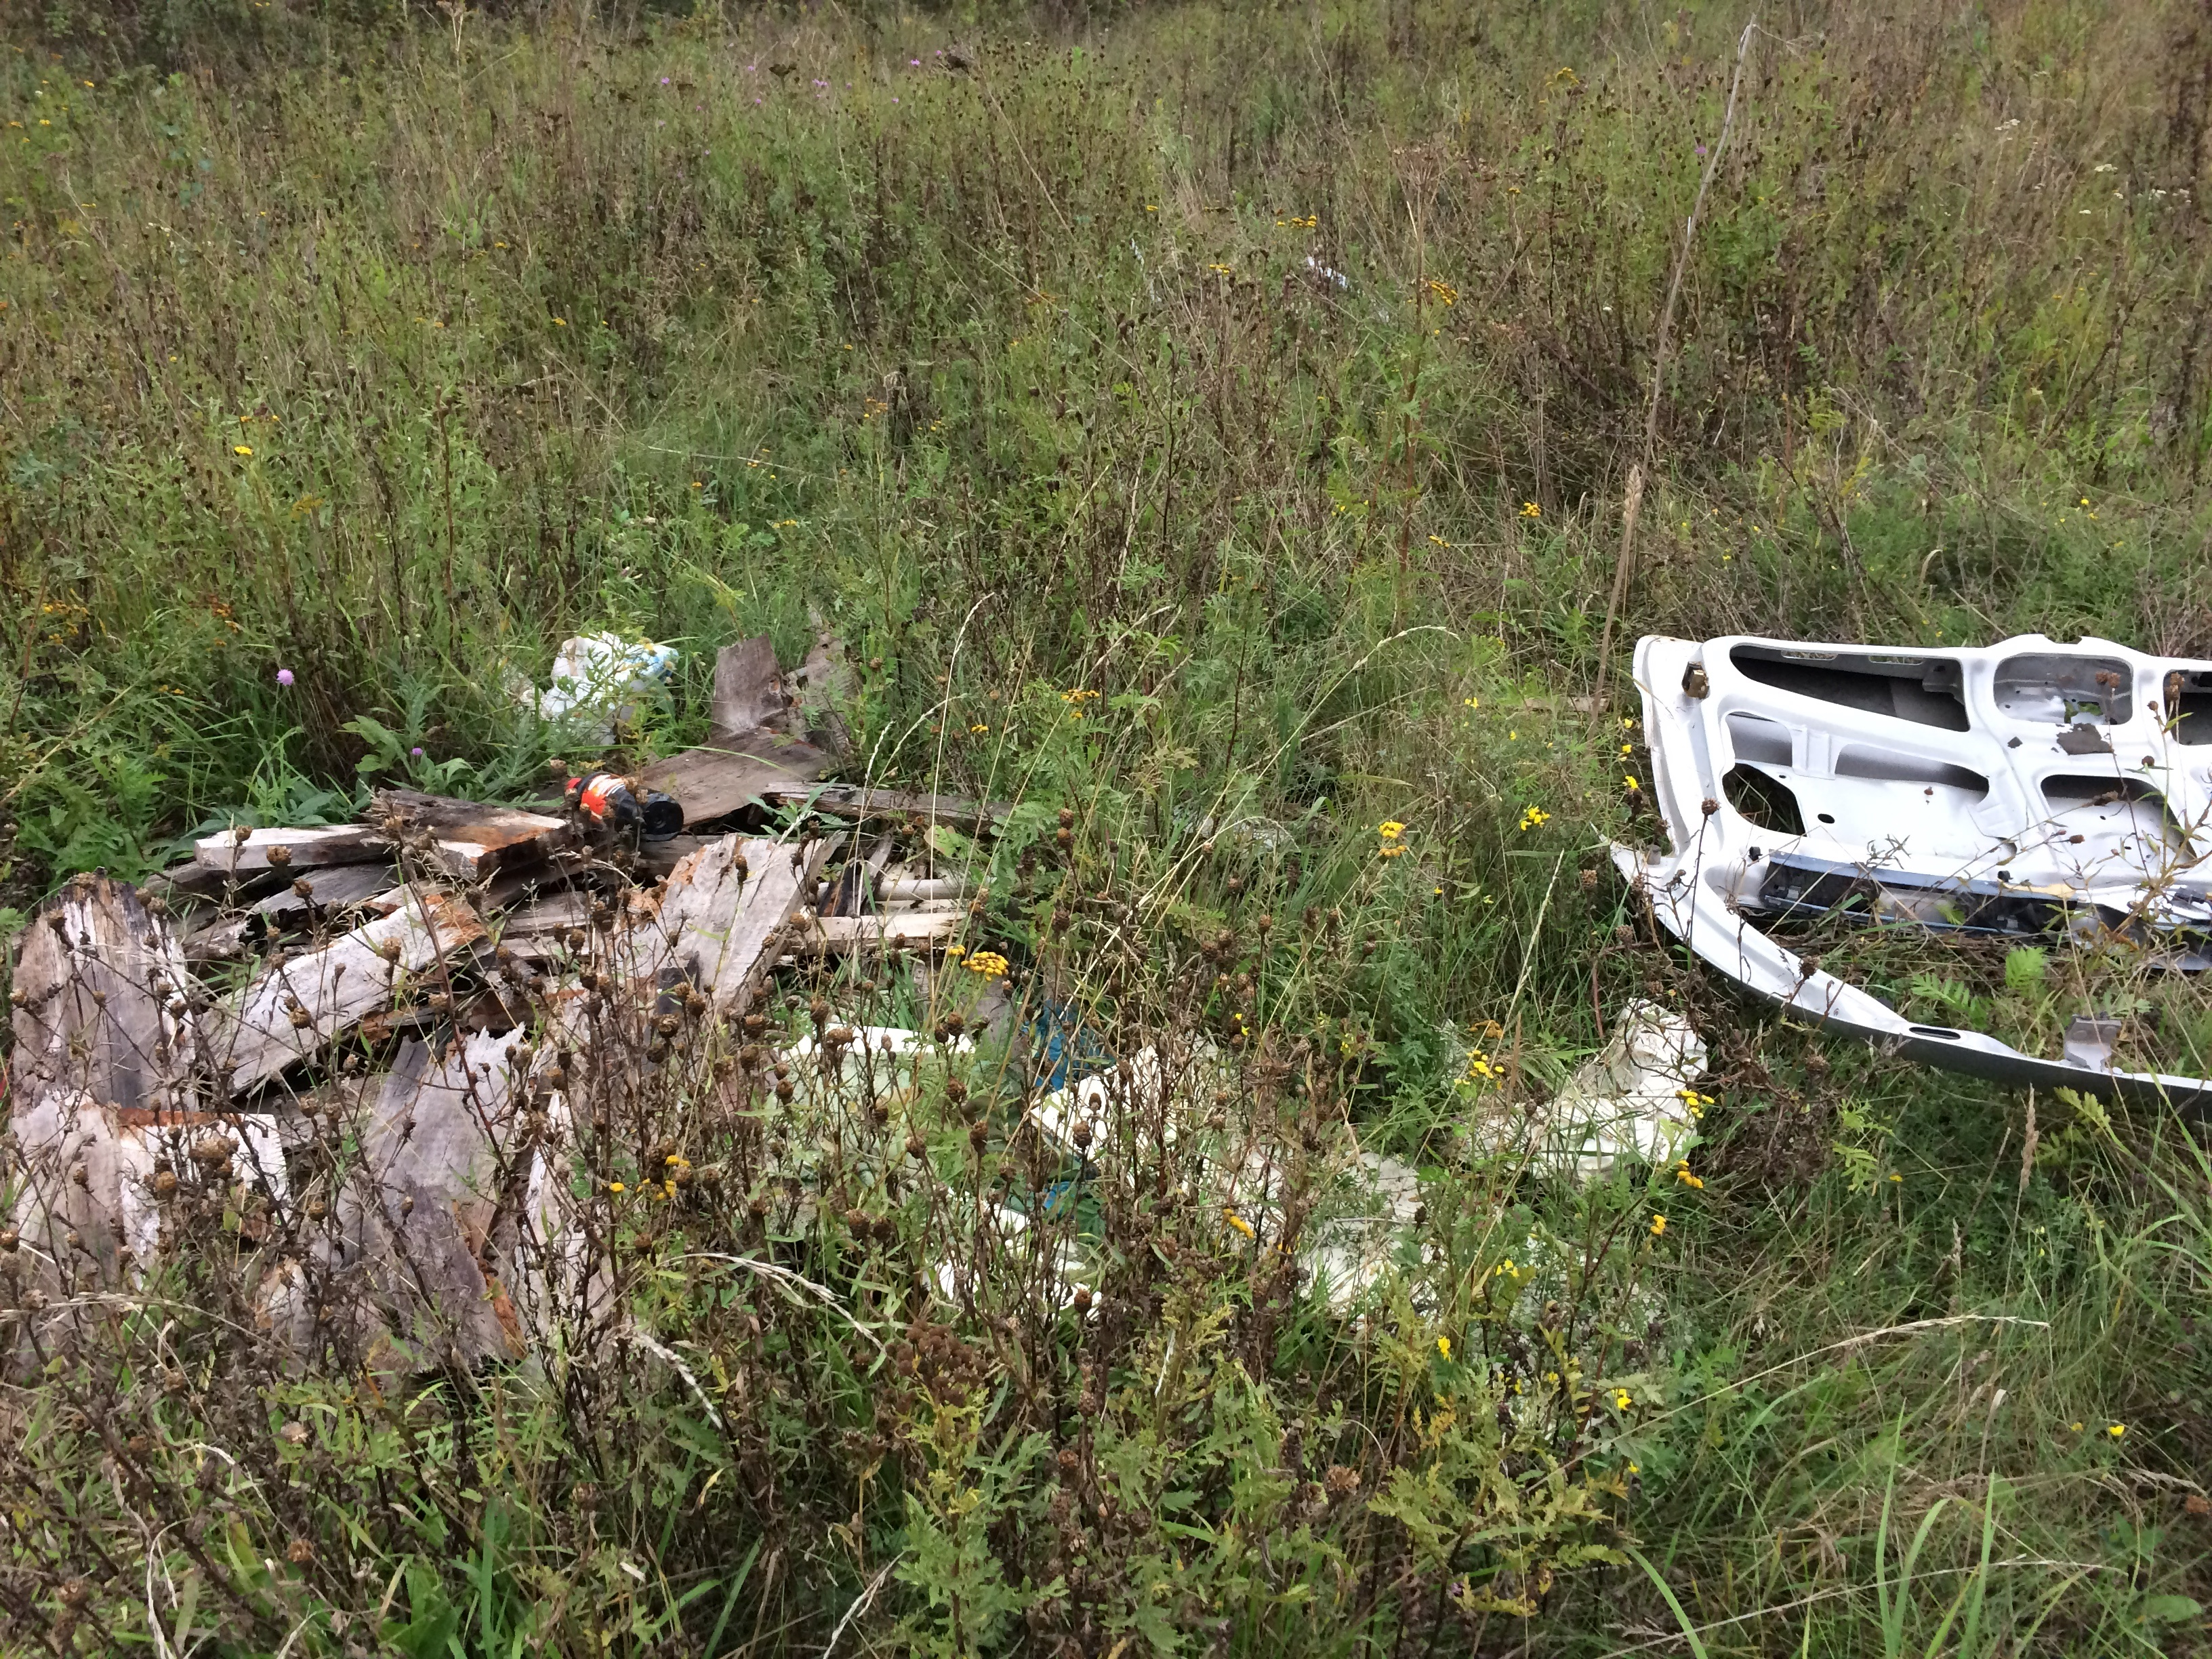trash: (0, 552, 1332, 1427), (1548, 551, 2212, 1143)
